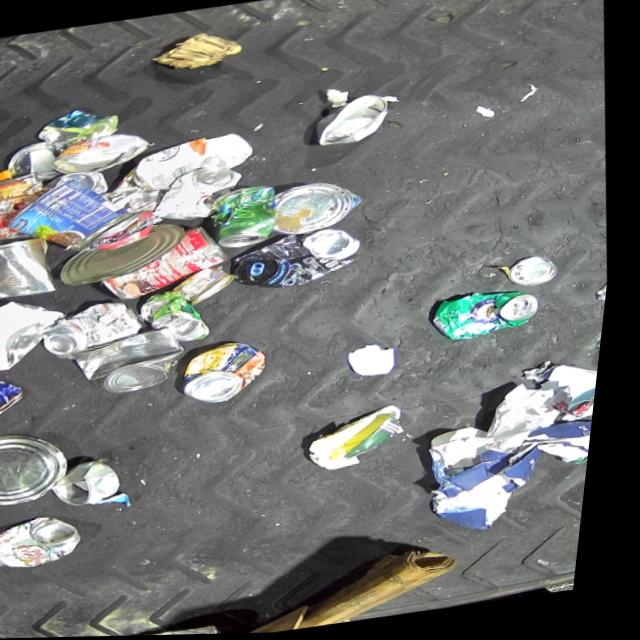can: (3, 171, 145, 263), (99, 221, 239, 303), (234, 224, 372, 295), (73, 324, 199, 400), (60, 221, 194, 287), (0, 425, 87, 512), (45, 296, 155, 362), (435, 285, 551, 345), (186, 338, 280, 407), (151, 163, 252, 226), (0, 510, 99, 574), (273, 176, 372, 237), (210, 185, 287, 252), (50, 130, 156, 178), (141, 287, 223, 348), (0, 232, 70, 303), (315, 91, 400, 149), (57, 456, 133, 510), (0, 171, 53, 247), (175, 264, 245, 308), (7, 139, 69, 185), (0, 358, 41, 421), (46, 168, 115, 201), (512, 254, 566, 290), (136, 623, 239, 637)
